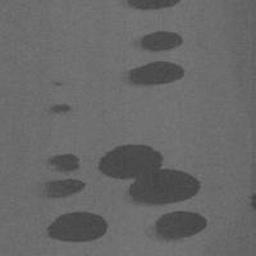Oil spot: (97, 142, 202, 209), (143, 209, 210, 244), (45, 211, 110, 244), (118, 59, 186, 88), (127, 29, 184, 54), (31, 177, 87, 200), (45, 152, 83, 174), (119, 0, 182, 13), (44, 102, 74, 116), (51, 79, 64, 87)
